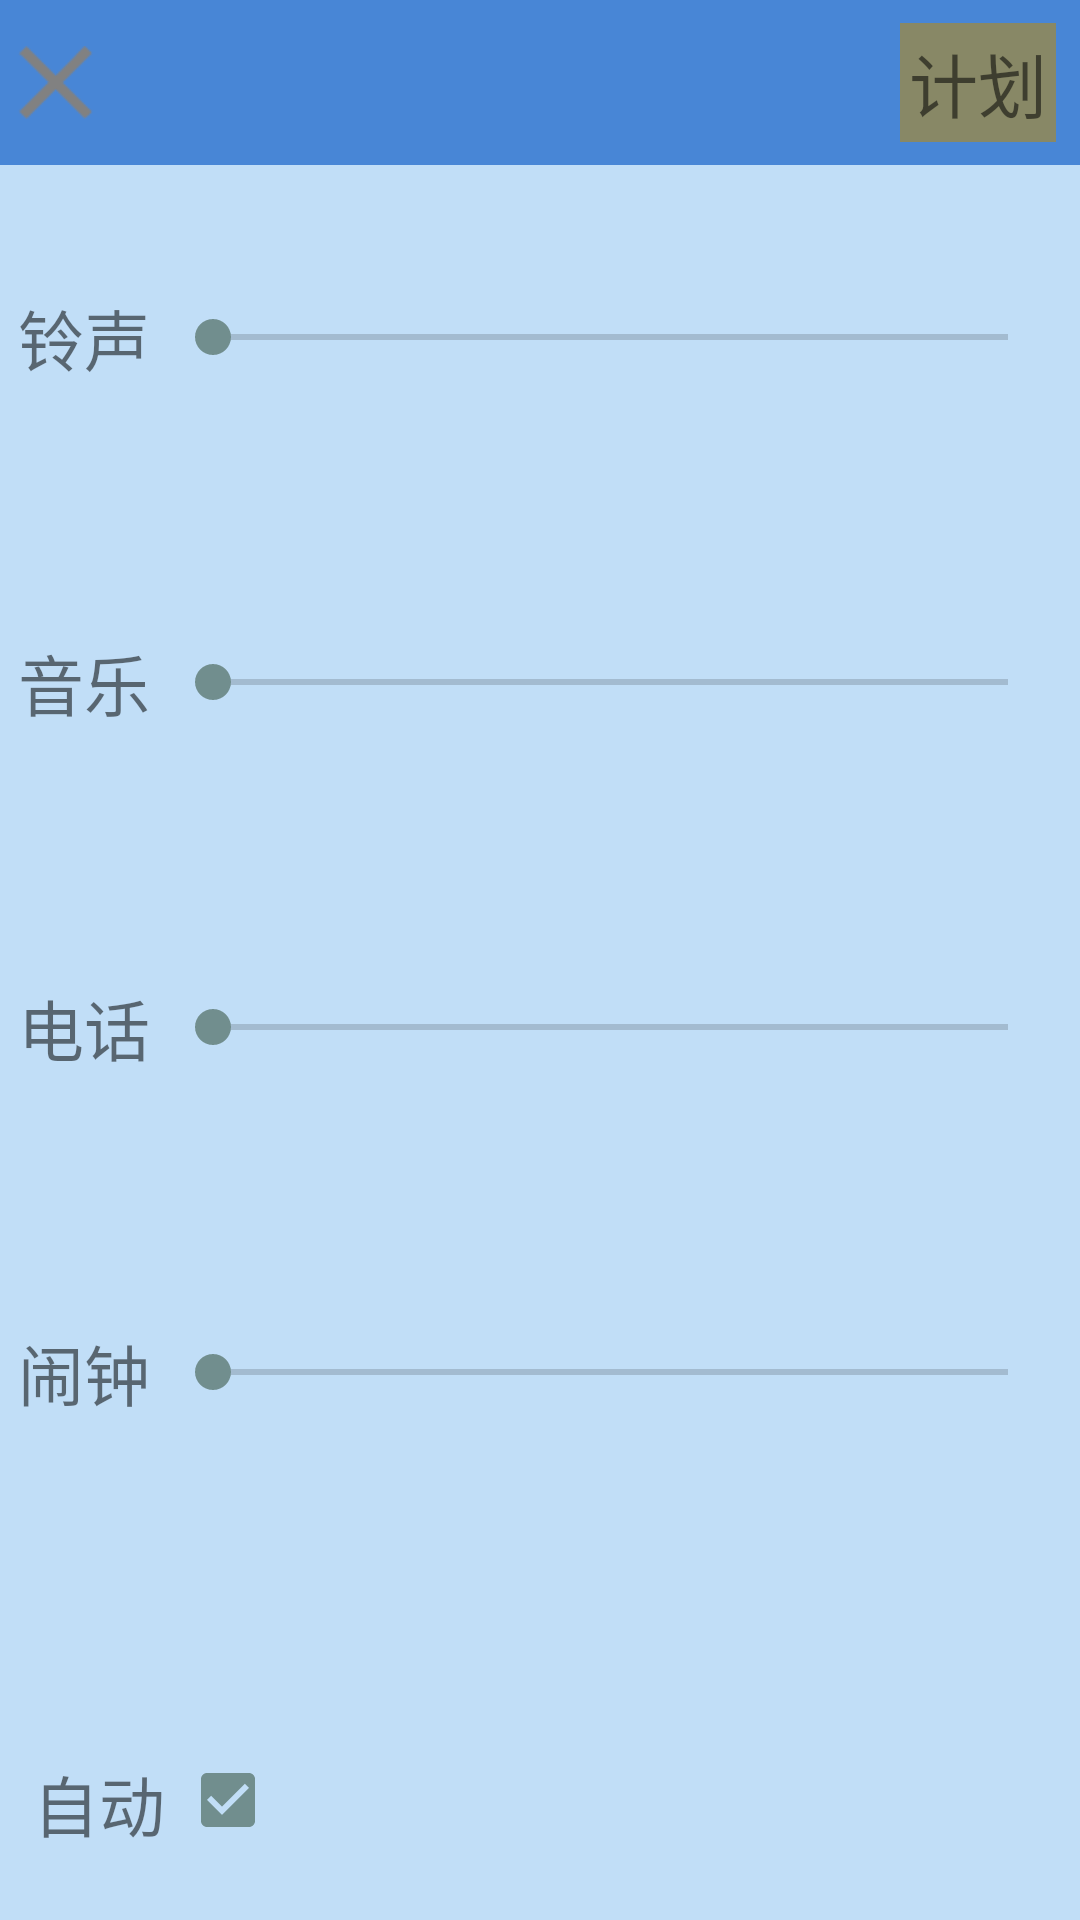

Icon click points for this 1080 x 1920 phone screenshot, format [x,y]:
addwind exitimg: [56,82]
